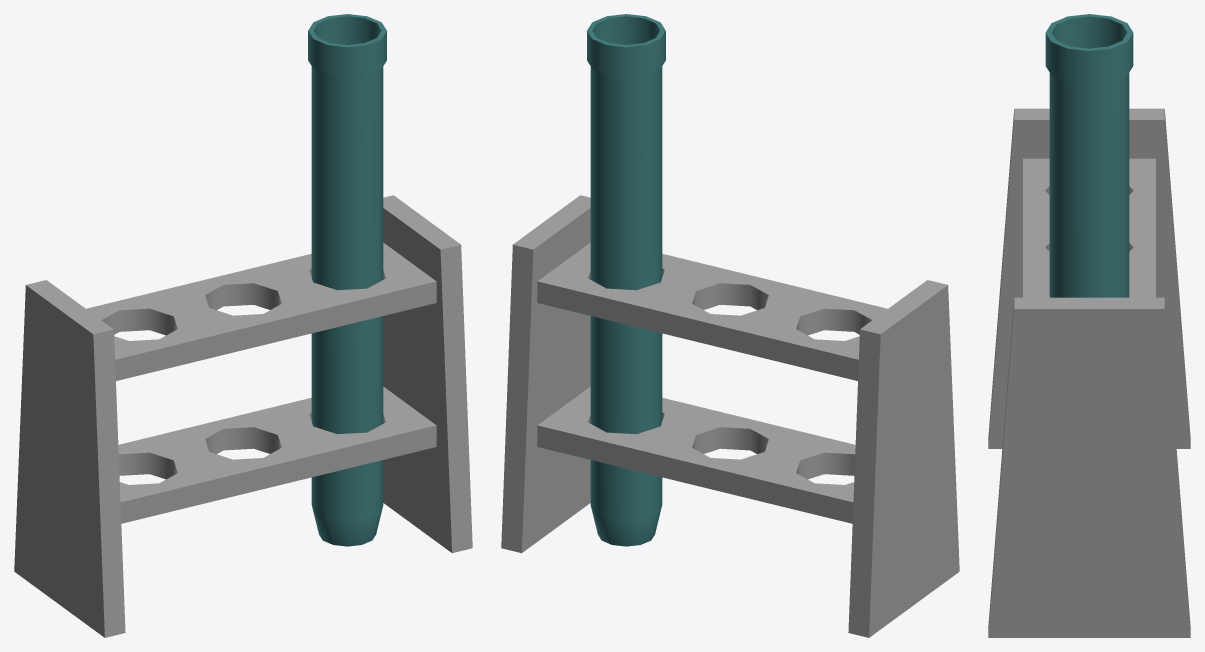
File: Holder3.fbx
The picture shows the model from 3 angles, left to right: view 1: azimuth 30°, elevation 25°; view 2: azimuth 150°, elevation 25°; view 3: azimuth 270°, elevation 25°; orthographic projection. The views are drawn at different scales.
Parts seen in each view (by area): view 1: polySurface184; view 2: polySurface184; view 3: polySurface184.
Part boxes in pixels (<box>): polySurface184: <box>14,14,472,637</box>; polySurface184: <box>501,14,959,637</box>; polySurface184: <box>988,14,1190,637</box>.
Bounding box in the file's own units: 10.7 × 4.57 × 14.
